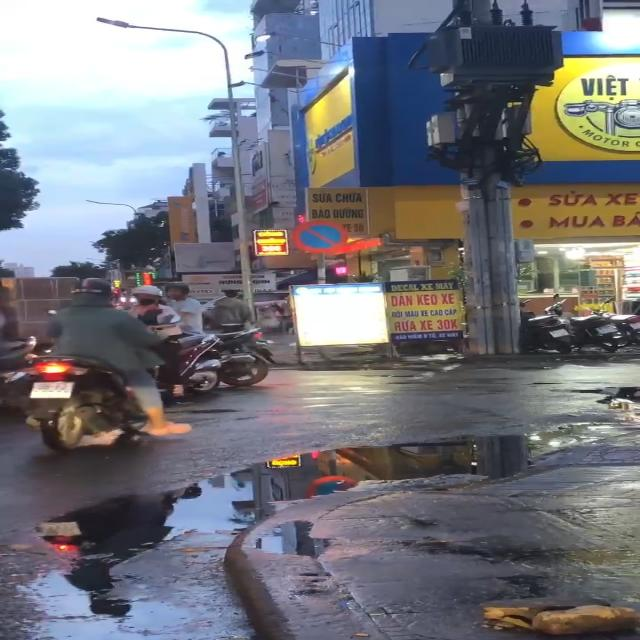Bien bao cam do xe: (288, 220, 356, 255)
